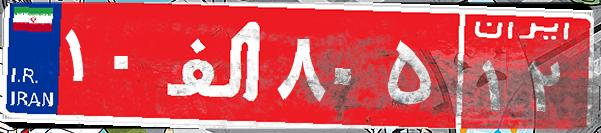0: (330, 28, 385, 110), (110, 28, 158, 105)
1: (57, 26, 110, 107), (475, 38, 525, 113)
2: (525, 38, 570, 115)
5: (385, 28, 445, 110)
8: (273, 28, 330, 110)
الف: (158, 15, 273, 115)
